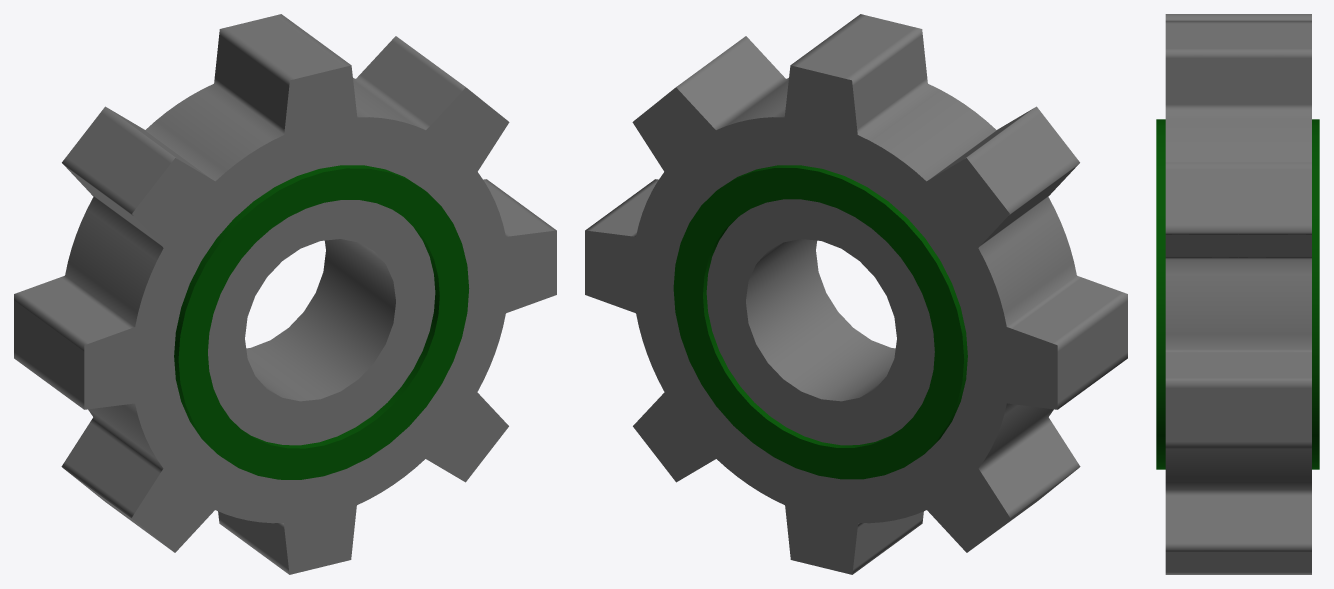
File: Tueraca_1.fbx
3 views of the same model, side by side, from view 1: azimuth 30°, elevation 25°; view 2: azimuth 150°, elevation 25°; view 3: azimuth 270°, elevation 25° (orthographic). The views are drawn at different scales.
Parts seen in each view (by area): view 1: pCylinder4; view 2: pCylinder4; view 3: pCylinder4.
Part boxes in pixels (left/top/right/bottom): pCylinder4: left=14, top=14, right=556, bottom=574; pCylinder4: left=585, top=14, right=1127, bottom=574; pCylinder4: left=1156, top=14, right=1319, bottom=574.
Size of the model in its own units: 1.17 by 1.17 by 0.3372.
